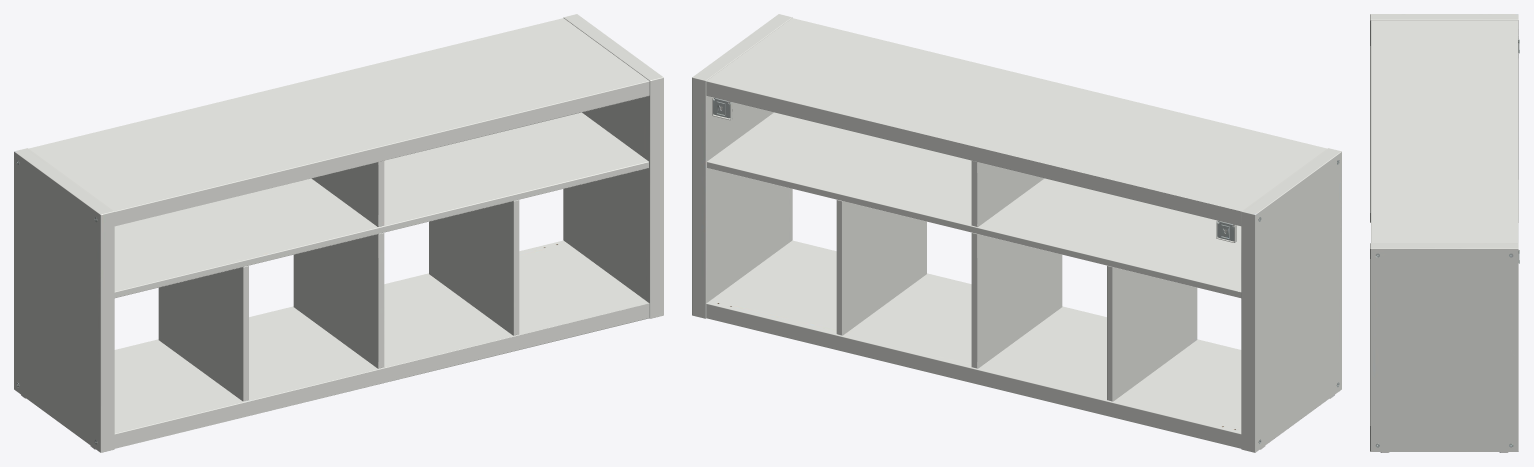
Rendered from kallax_tv_unit_white.glb.
3 renders of one model, left to right at view 1: azimuth 30°, elevation 25°; view 2: azimuth 150°, elevation 25°; view 3: azimuth 270°, elevation 25°, orthographic. The views are drawn at different scales.
Visible parts, largest first — view 1: 70562087-KALLAX001; view 2: 70562087-KALLAX001; view 3: 70562087-KALLAX001.
Part boxes in pixels (x1,y1,x2,y2): 70562087-KALLAX001: (14,14,663,452); 70562087-KALLAX001: (692,14,1341,452); 70562087-KALLAX001: (1370,14,1519,452).
Size of the model in its own units: 1.47 by 0.5959 by 0.3951.
1 material, 1 textured.
